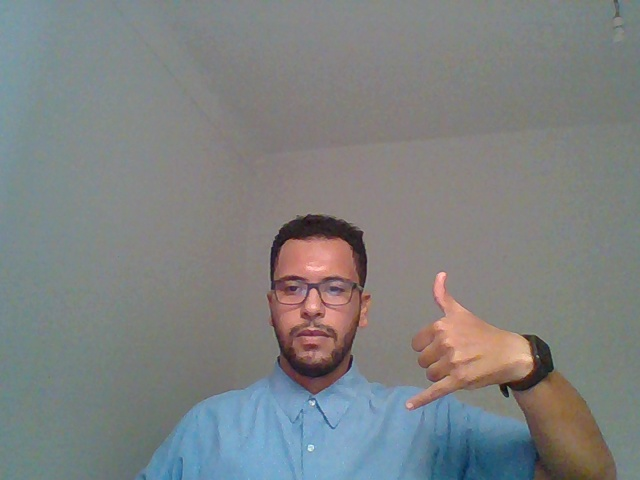callme: (386, 244, 570, 480)
